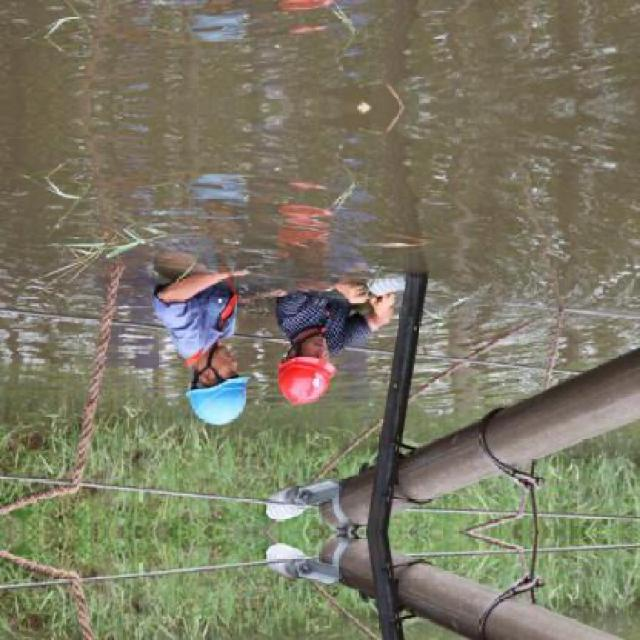con casco: (183, 330, 260, 438), (277, 327, 341, 424)
